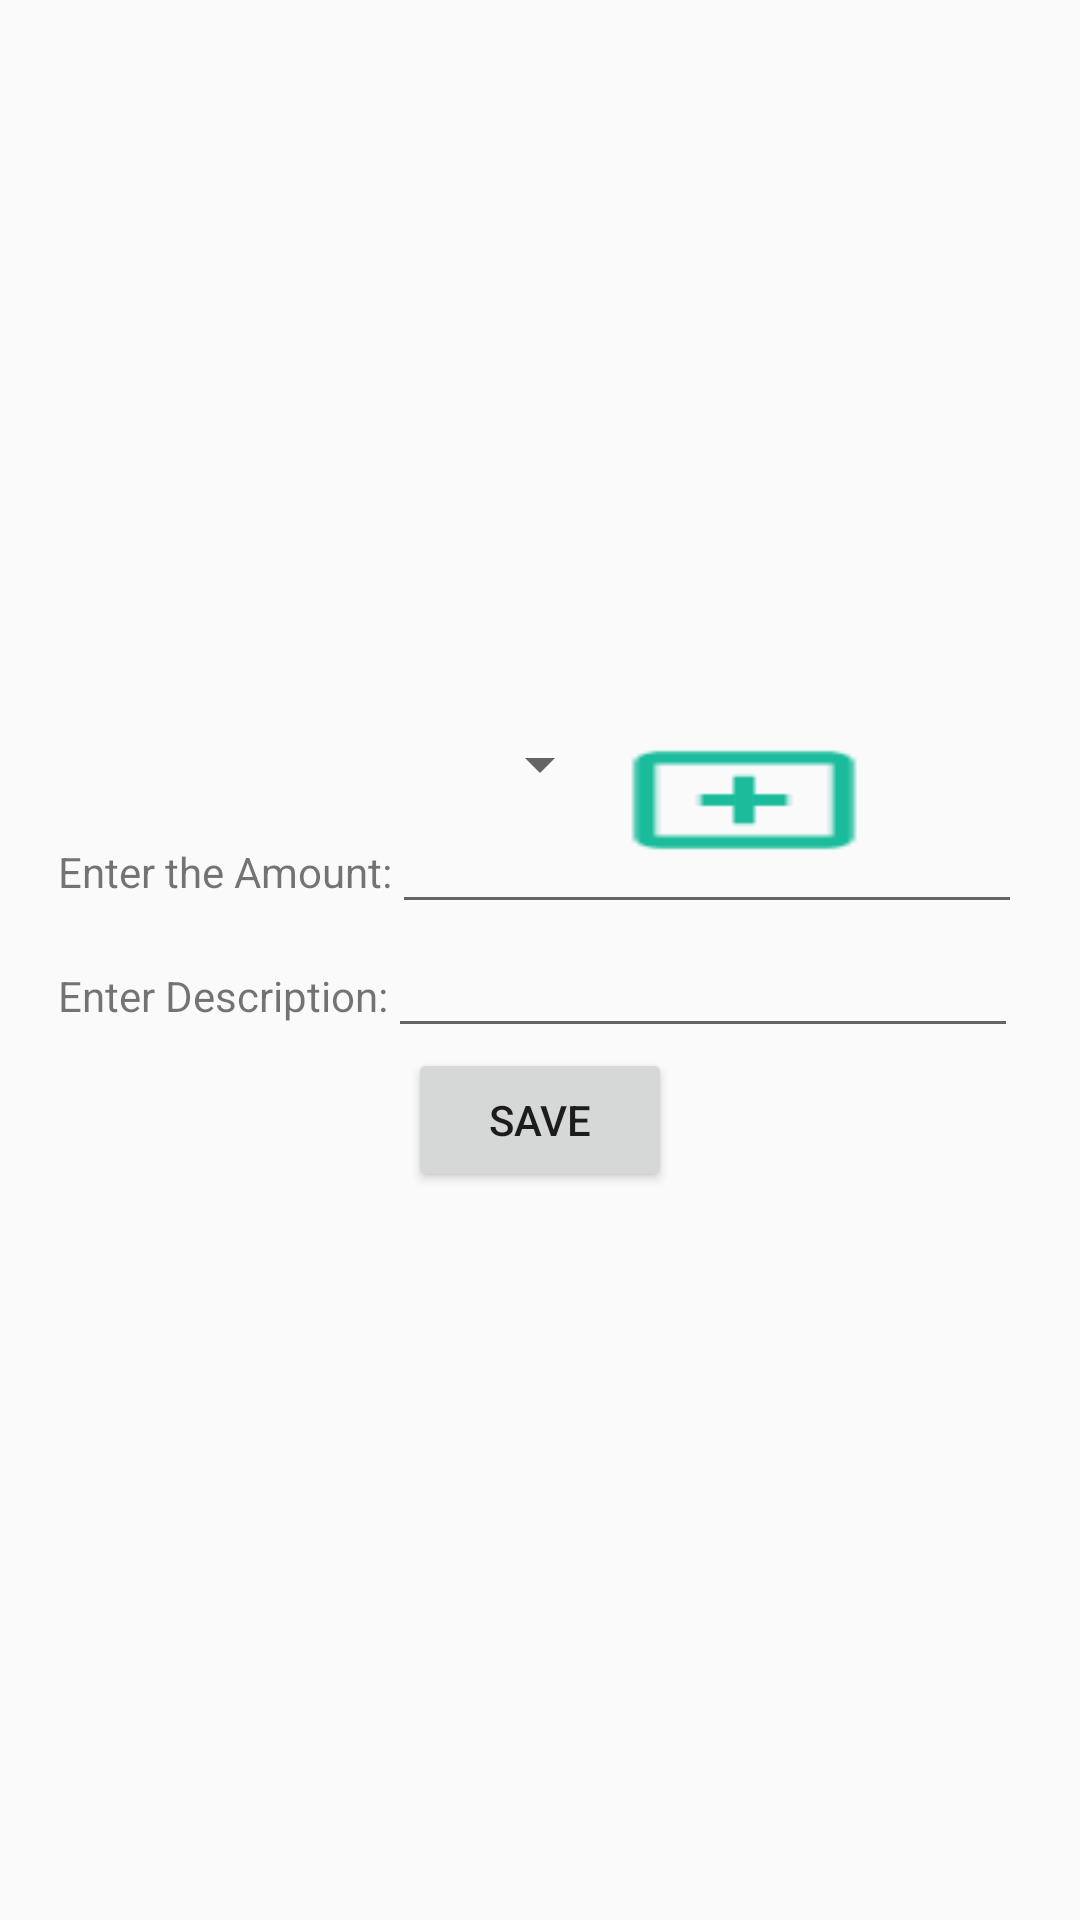

Locate icon controls on the screen. Image size 1080w x 1920h, boxes as (x1, y1, x2, y2).
add: (631, 750, 857, 850)
